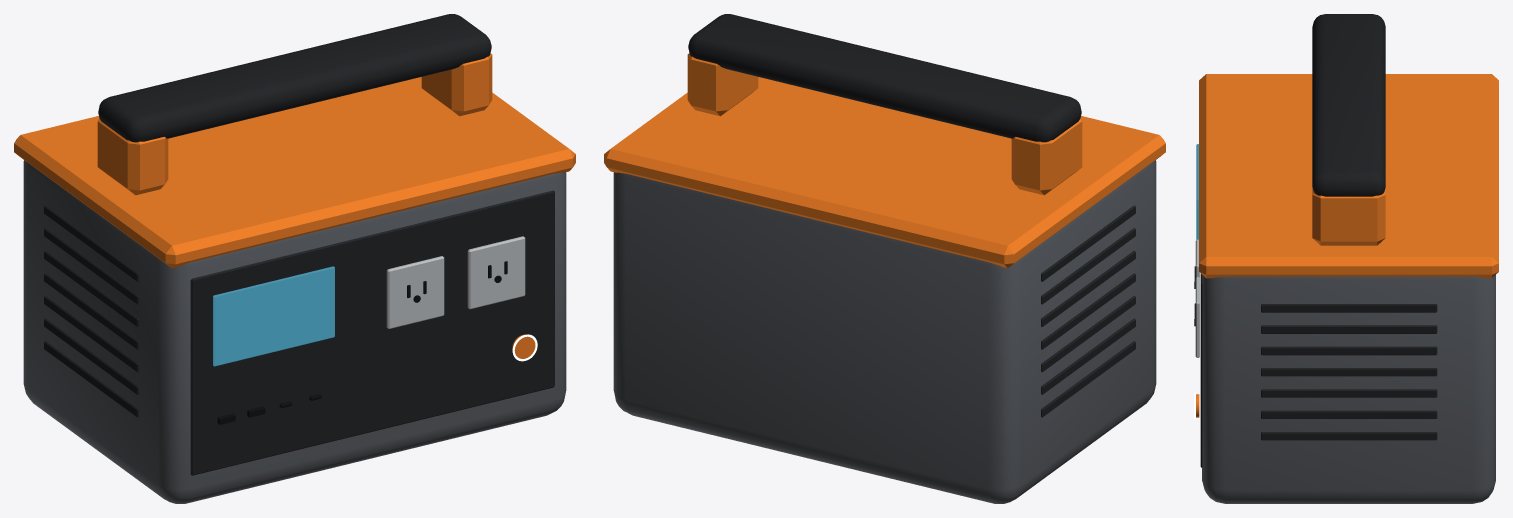
File: portable-power-station.glb
The picture shows the model from 3 angles, left to right: view 1: azimuth 30°, elevation 25°; view 2: azimuth 150°, elevation 25°; view 3: azimuth 270°, elevation 25°; orthographic projection. The views are drawn at different scales.
Parts seen in each view (by area): view 1: Portable_Power_Station; view 2: Portable_Power_Station; view 3: Portable_Power_Station.
Part boxes in pixels (bbox=[...]): Portable_Power_Station: bbox=[14, 14, 575, 503]; Portable_Power_Station: bbox=[604, 14, 1165, 503]; Portable_Power_Station: bbox=[1194, 14, 1498, 503].
Bounding box in the file's own units: 0.304 × 0.244 × 0.2075.
